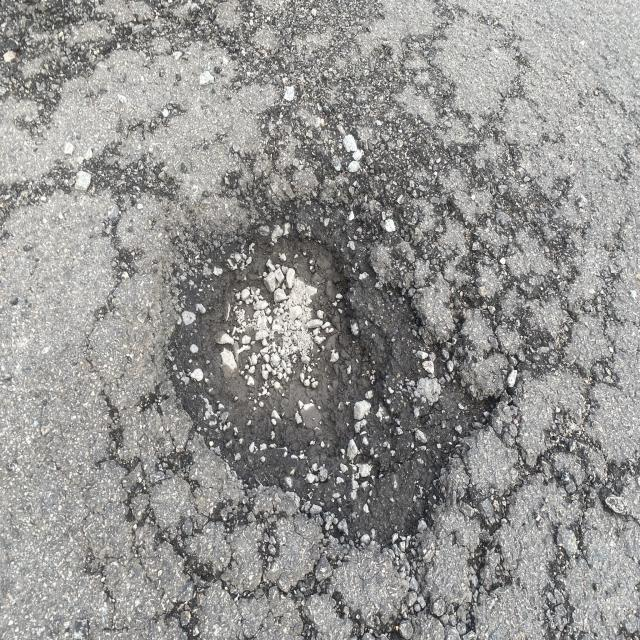Pothole: (145, 186, 512, 558)
